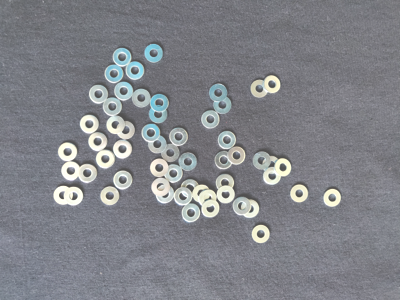circle: (144, 42, 167, 63), (57, 142, 79, 163), (201, 109, 222, 130), (125, 61, 146, 82), (112, 47, 133, 68), (115, 120, 136, 141), (212, 95, 234, 115), (131, 88, 153, 108), (252, 223, 272, 244), (79, 115, 100, 135), (177, 152, 198, 172), (96, 150, 117, 170), (78, 164, 98, 185), (63, 187, 84, 207), (112, 170, 133, 190), (201, 199, 221, 220), (253, 149, 272, 171), (241, 199, 261, 219), (150, 93, 170, 113), (105, 64, 125, 84), (114, 81, 134, 101), (89, 85, 109, 105), (113, 140, 133, 160), (62, 161, 82, 181), (100, 187, 120, 207), (250, 78, 269, 99), (227, 146, 246, 167), (290, 184, 309, 205), (102, 98, 123, 117), (155, 185, 176, 204), (217, 131, 237, 150), (263, 155, 282, 175), (324, 188, 343, 208), (233, 196, 252, 216), (216, 173, 235, 193), (217, 185, 237, 204), (149, 105, 169, 124), (161, 143, 180, 163), (89, 133, 109, 152), (174, 187, 193, 207), (207, 84, 229, 101), (264, 74, 283, 93), (215, 151, 234, 170), (142, 123, 161, 142), (169, 127, 188, 146), (149, 135, 168, 154), (164, 164, 183, 183), (150, 159, 169, 178), (53, 187, 72, 206), (192, 184, 211, 203), (107, 115, 125, 135), (152, 178, 170, 197), (182, 179, 201, 197), (182, 204, 200, 223), (198, 190, 217, 208), (275, 158, 292, 178), (262, 168, 282, 185)
